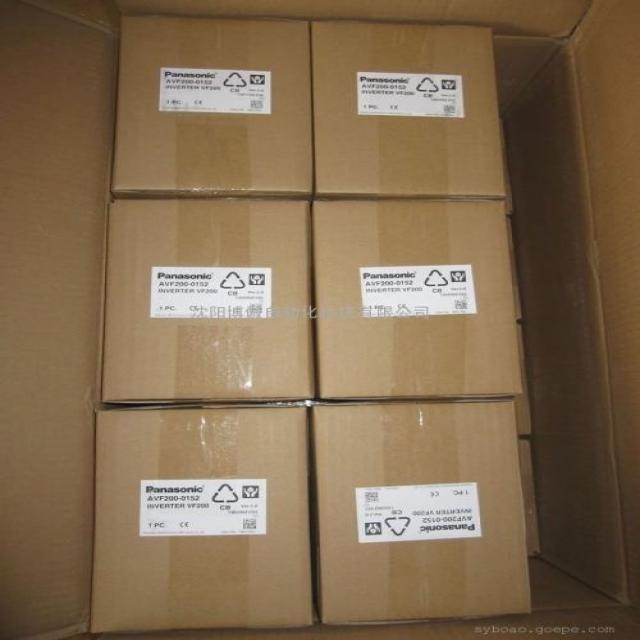box: (91, 404, 313, 632), (313, 399, 532, 625), (102, 200, 315, 403), (312, 200, 522, 400), (110, 15, 312, 200), (310, 21, 506, 200)
